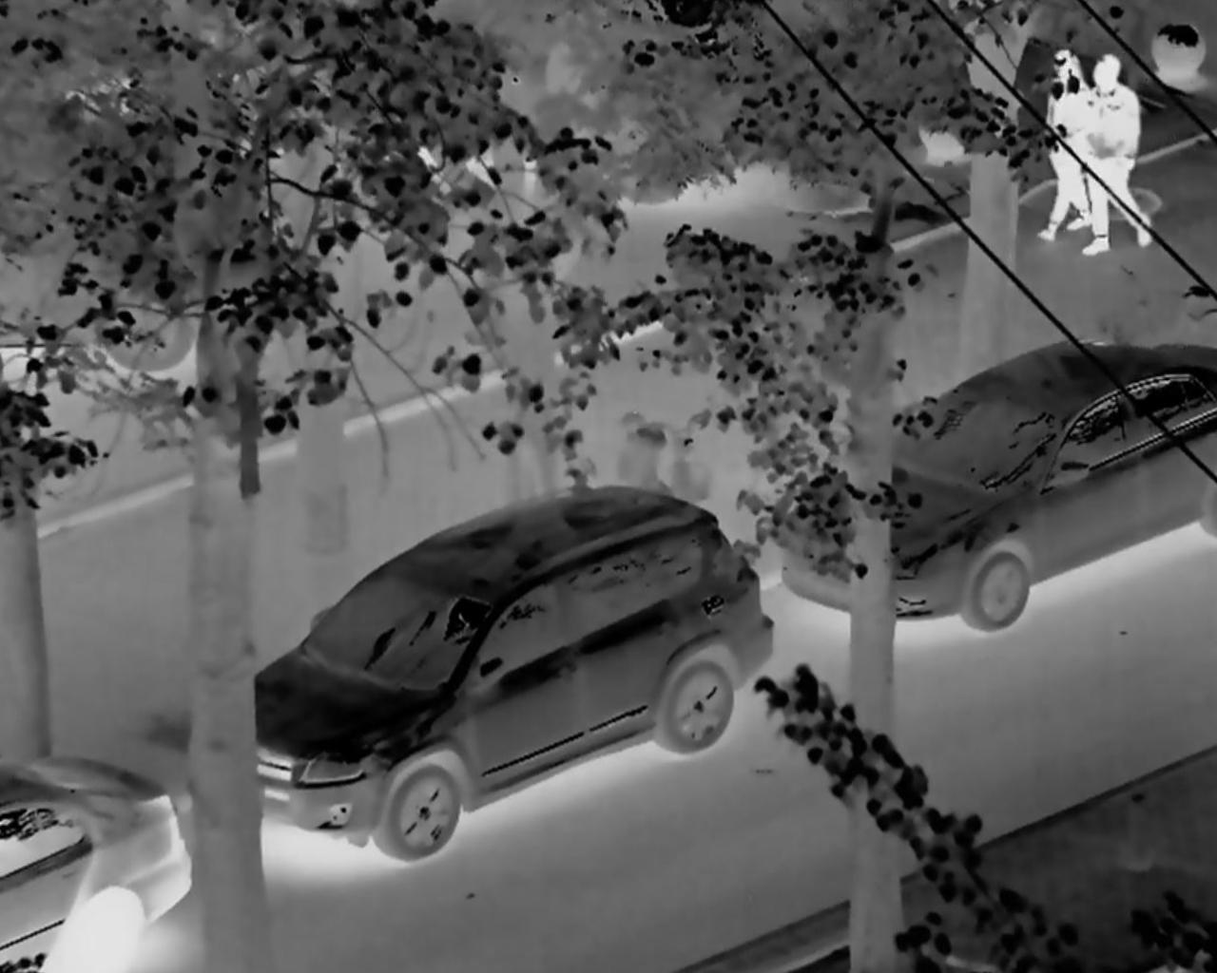person: (1025, 36, 1100, 271), (1083, 48, 1161, 267)
